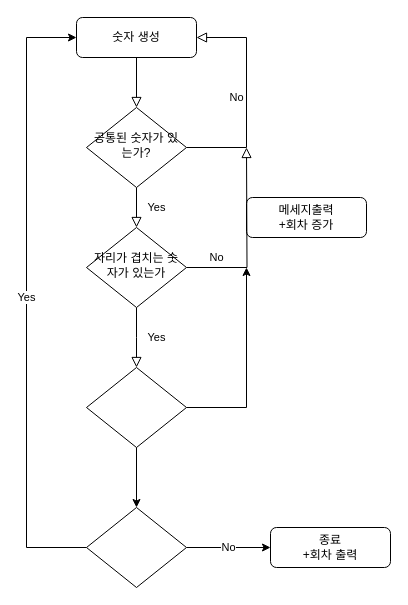
Image size: 408x605. Some labels were removed from this diagram. The shapes that lost their labels are listed below. From the top down, each one's box as (x1, y1, x2, y2) in pixels, then its label:
(86, 366, 186, 448): 정답인가
(86, 506, 186, 588): 계속 플레이?
